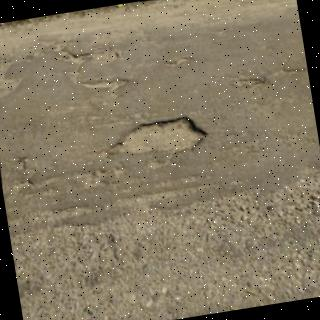pothole: (107, 118, 210, 155), (80, 80, 128, 91)
